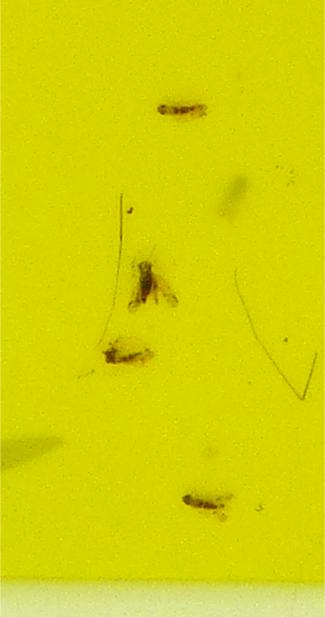Hemiptera: (132, 256, 166, 306), (176, 489, 225, 517), (154, 100, 209, 122)
Nematocera: (100, 343, 150, 371)
